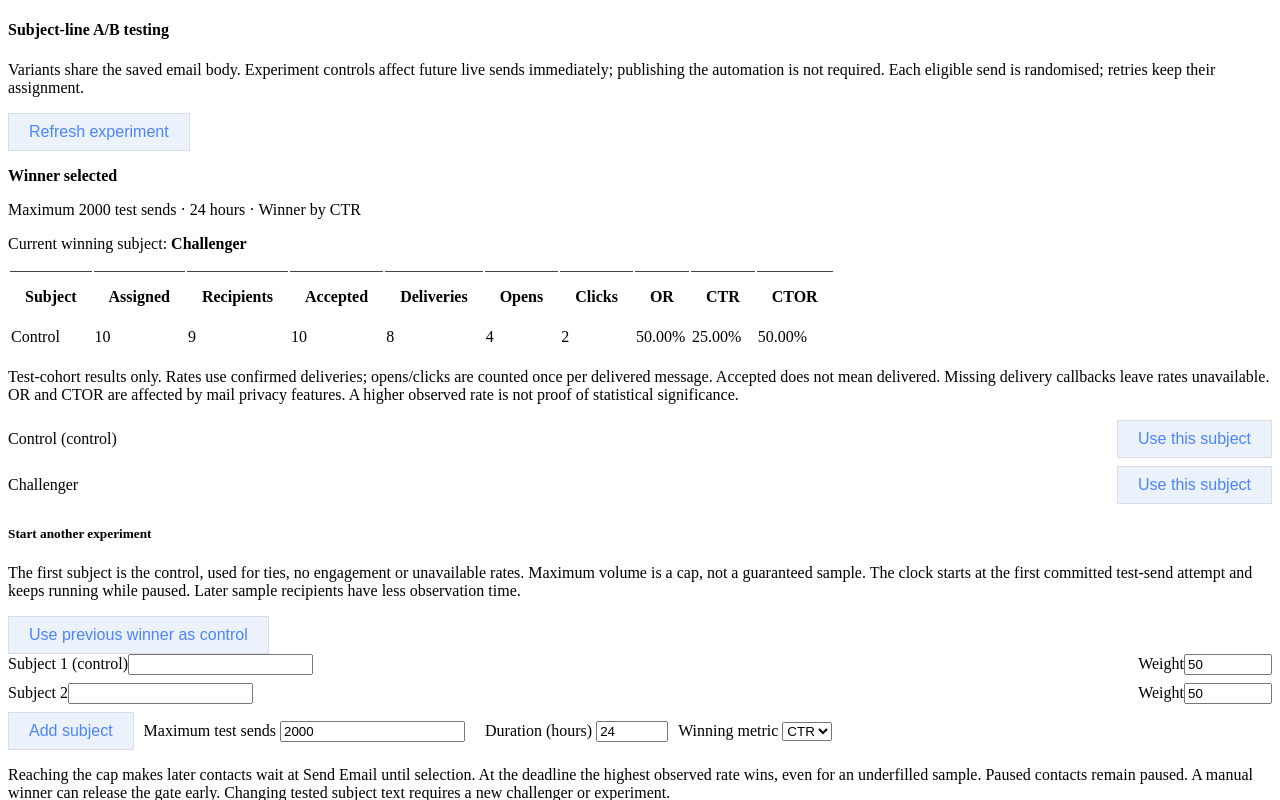
Test: can seed the next experiment with the previous winning control
Click the button "Use previous winner as control": (138, 635) [8,616,269,654]
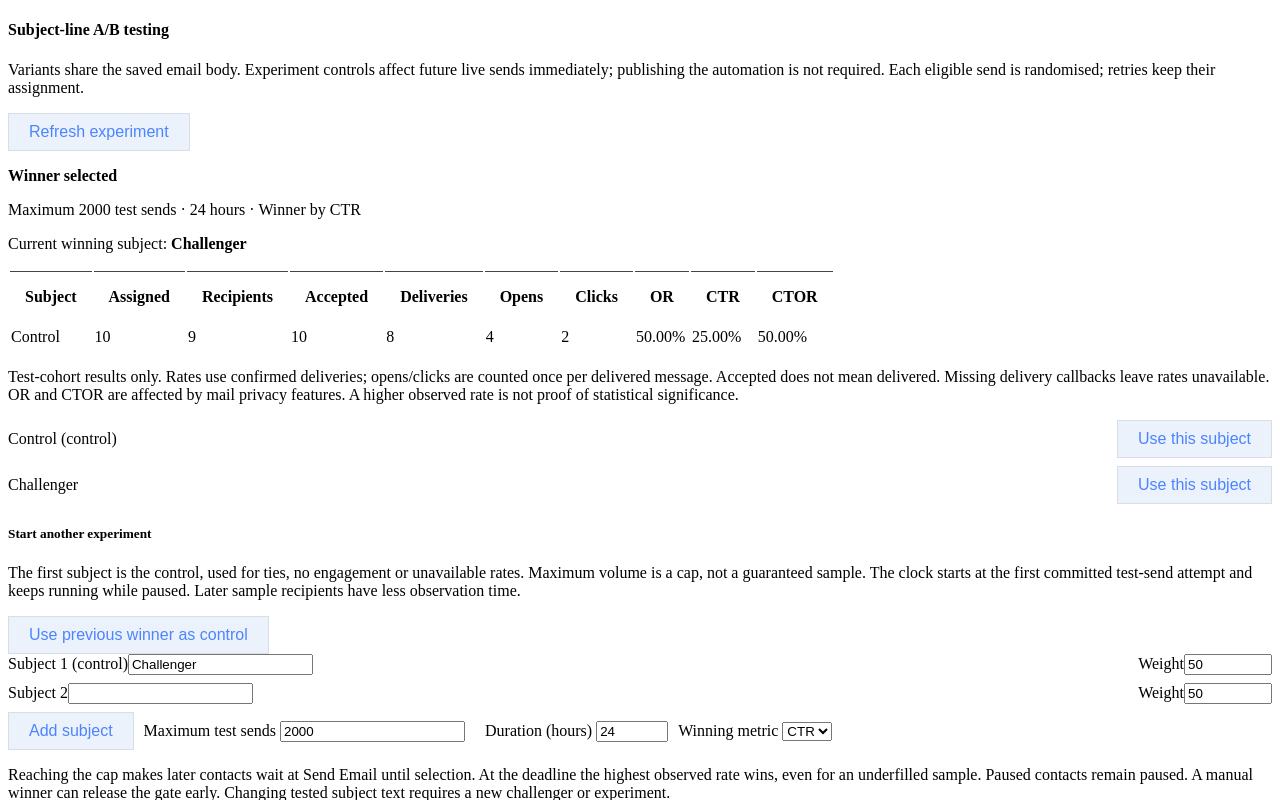
Expected: the field named "Test subject 1" holds "Challenger", [128,654,313,675]
